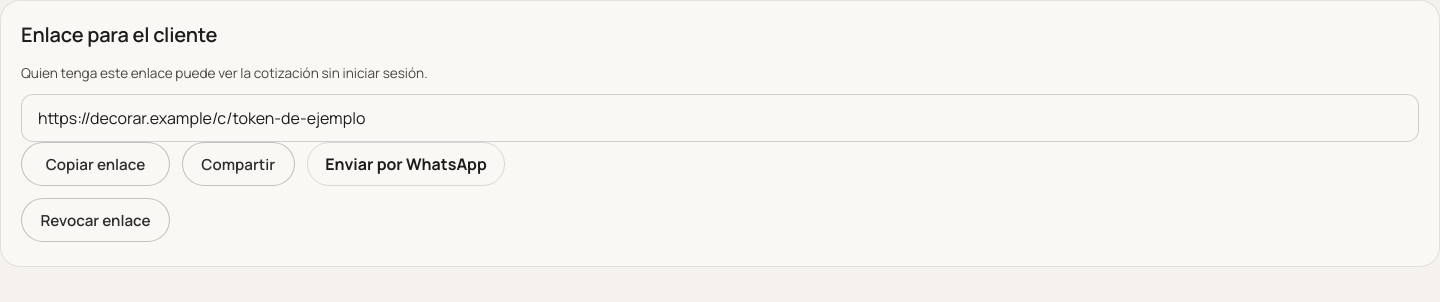
Scenario: ShareLinkSection (DECOR-53) › un fallo al compartir se muestra en la sección y copiar sigue de respaldo (DECOR-54)
Click the button "Compartir".
click(238, 164)  # box [182,142,294,186]
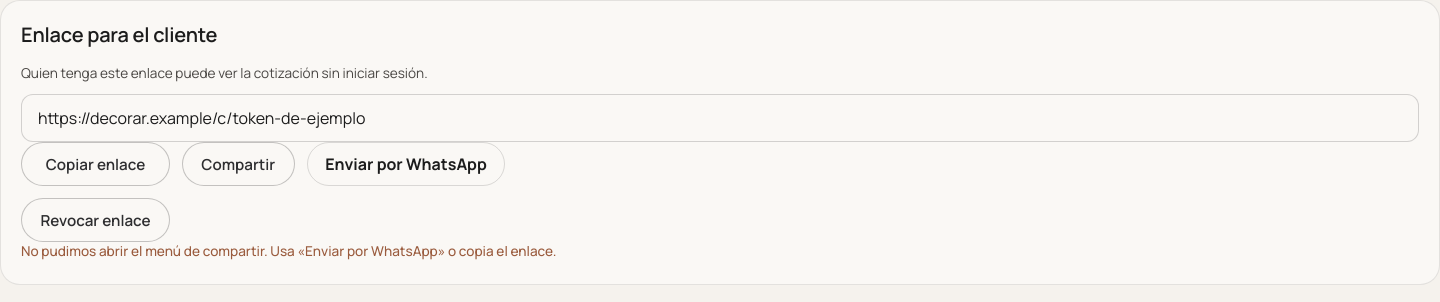
Now the message shows "No pudimos abrir el menú de compartir. Usa «Enviar por WhatsApp» o copia el enlace.", box [21,242,556,260]
Click the button "Copiar enlace".
click(95, 164)  # box [21,142,170,186]
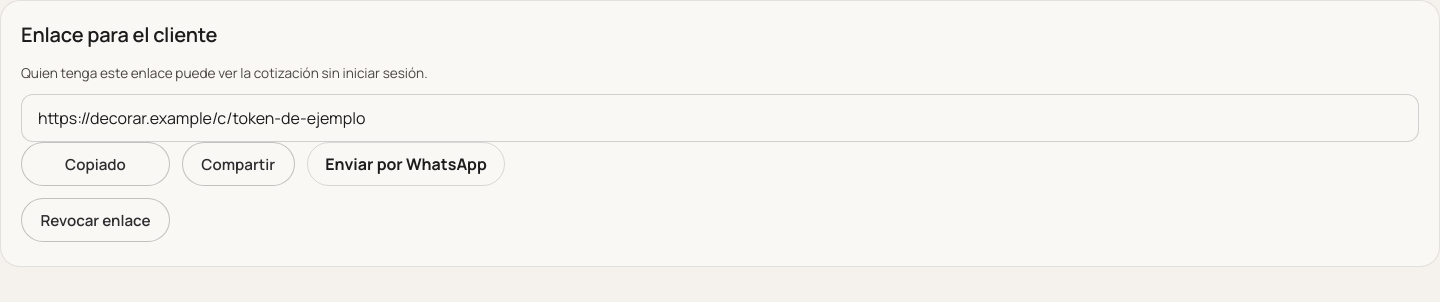
Now the message is gone
